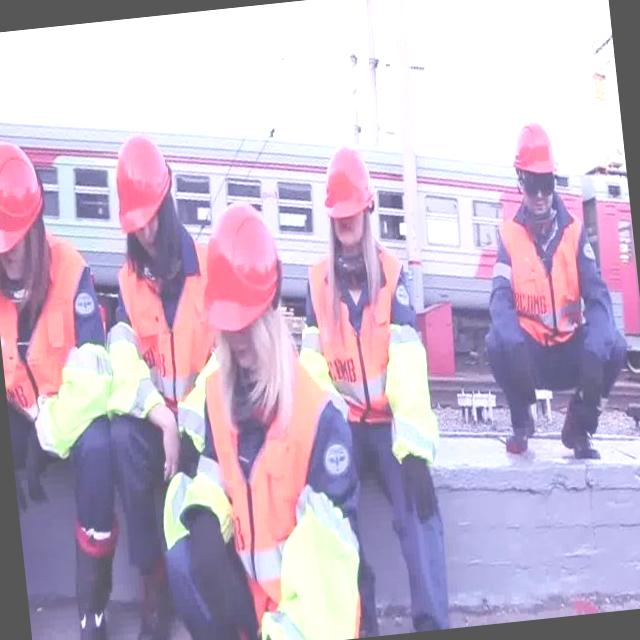vest: (200, 344, 358, 626), (0, 227, 119, 445), (303, 241, 419, 435), (245, 471, 371, 640), (112, 242, 219, 408), (497, 204, 596, 347), (33, 341, 118, 463), (374, 316, 439, 472), (152, 444, 238, 550), (166, 345, 227, 458), (103, 318, 165, 425)
